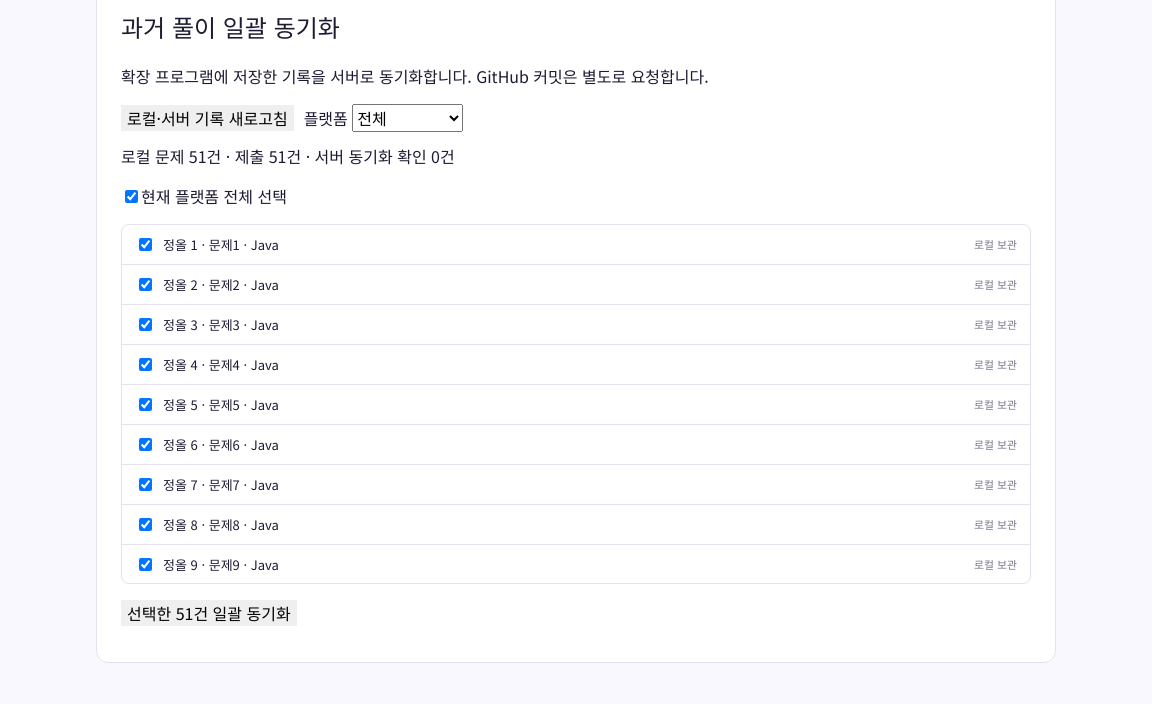
Scenario: cancellation acknowledges in-flight success and prevents the next batch
The width and height of the screenshot is (1152, 704).
Click the button "선택한 51건 일괄 동기화" at (209, 613), box [121,600,297,626]
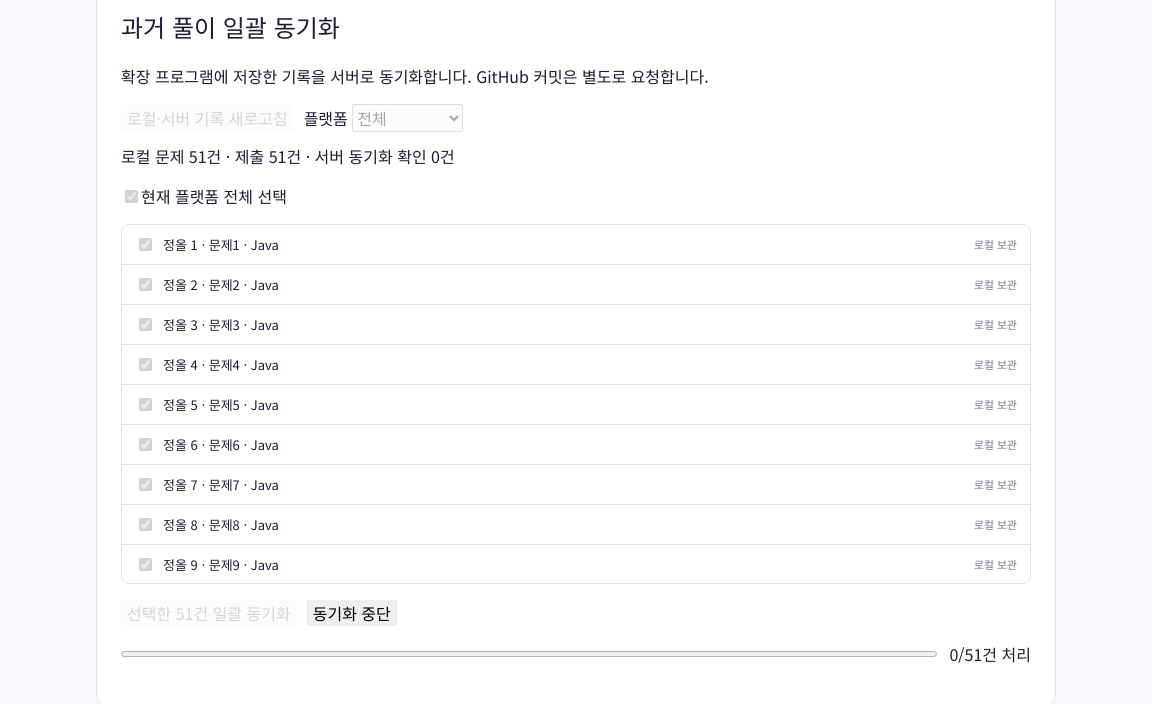
Click the button "동기화 중단" at (352, 613), box [307,600,397,626]
(page scrolled)
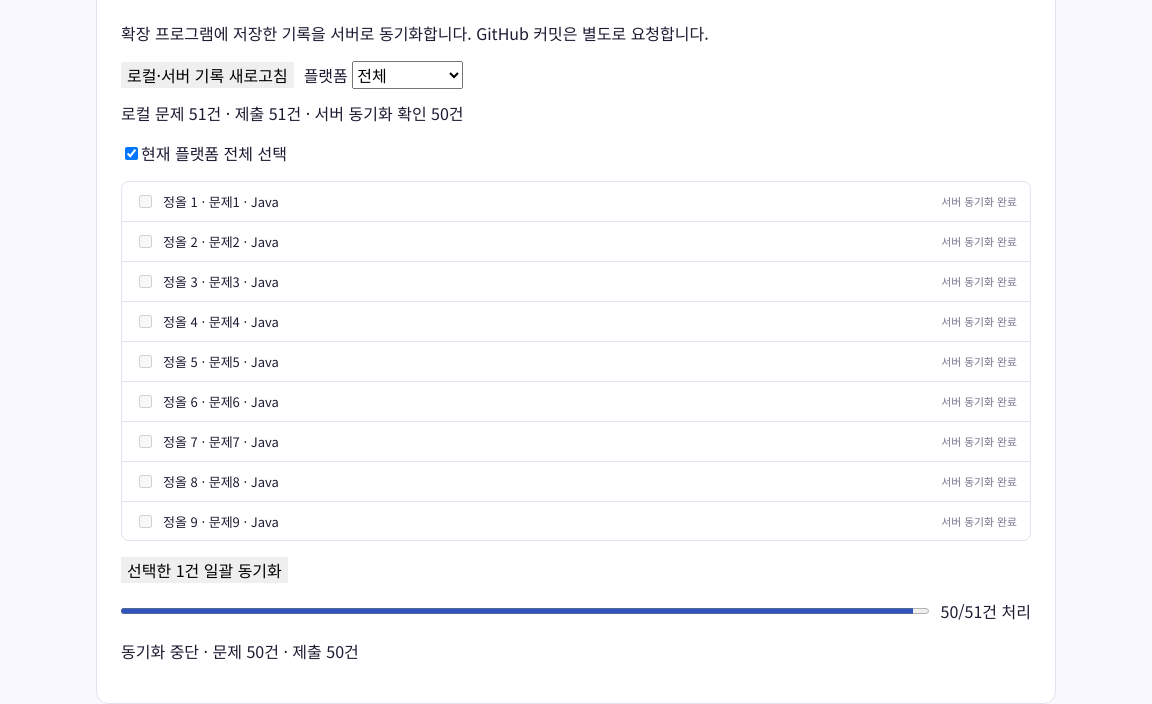
expect the text "동기화 중단 · 문제 50건 · 제출 50건" is shown: met, box [121,639,359,663]
